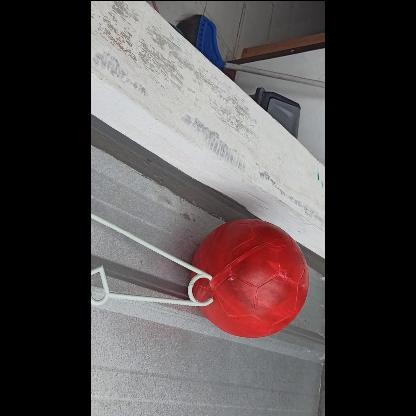red_ball: (191, 220, 309, 338)
